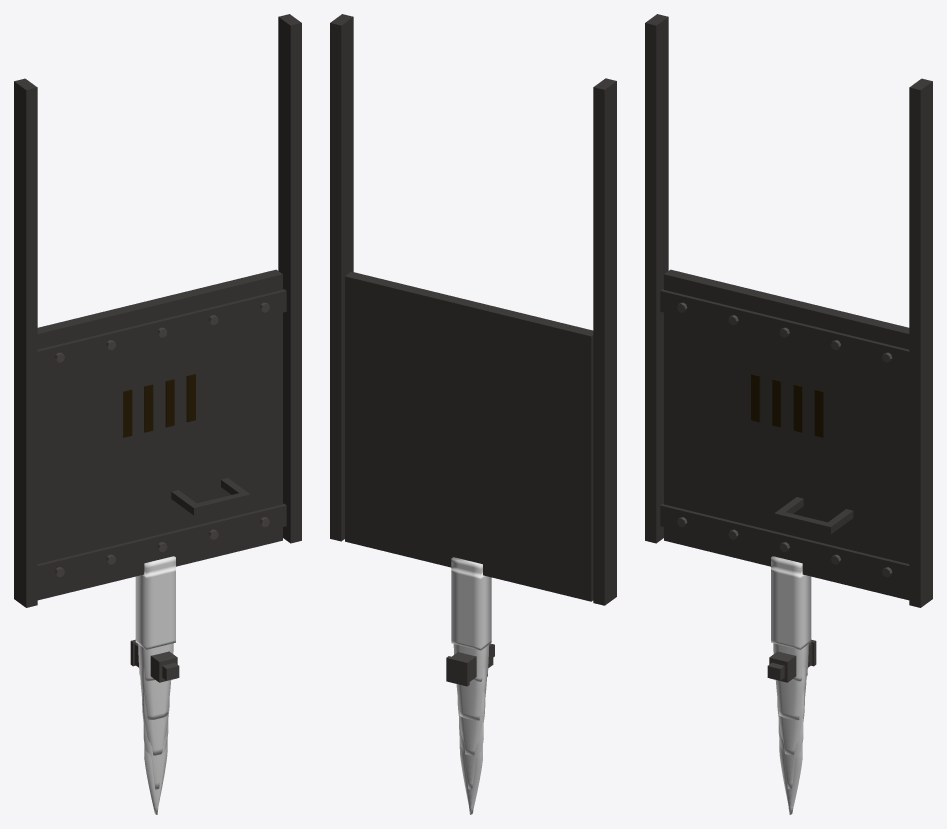
Rendered from cinematica_forja_utileria.fbx.
3 renders of one model, left to right at view 1: azimuth 30°, elevation 25°; view 2: azimuth 150°, elevation 25°; view 3: azimuth 330°, elevation 25°, orthographic.
Visible parts, largest first — view 1: Compuerta, GuiasCompuerta, Pieza_Etapa0, Pieza_Etapa2, Martillo, Pieza_Etapa3, Pieza_Etapa5, Pieza_Etapa1, Pieza_Etapa4; view 2: Compuerta, GuiasCompuerta, Pieza_Etapa0, Martillo, Pieza_Etapa2, Pieza_Etapa3, Pieza_Etapa5, Pieza_Etapa1, Pieza_Etapa4; view 3: Compuerta, GuiasCompuerta, Pieza_Etapa0, Pieza_Etapa2, Martillo, Pieza_Etapa3, Pieza_Etapa5, Pieza_Etapa1, Pieza_Etapa4.
Part boxes in pixels (x1,y1,x2,y2): Compuerta: [37, 269, 286, 600]; GuiasCompuerta: [14, 14, 301, 607]; Pieza_Etapa0: [135, 556, 175, 649]; Pieza_Etapa2: [140, 557, 171, 720]; Martillo: [130, 639, 179, 682]; Pieza_Etapa3: [142, 690, 169, 755]; Pieza_Etapa5: [144, 740, 167, 814]; Pieza_Etapa1: [138, 558, 173, 681]; Pieza_Etapa4: [143, 718, 168, 789]; Compuerta: [345, 271, 593, 601]; GuiasCompuerta: [330, 14, 616, 605]; Pieza_Etapa0: [451, 557, 491, 650]; Martillo: [446, 643, 494, 686]; Pieza_Etapa2: [456, 560, 486, 720]; Pieza_Etapa3: [457, 691, 485, 755]; Pieza_Etapa5: [459, 739, 482, 814]; Pieza_Etapa1: [453, 557, 488, 681]; Pieza_Etapa4: [459, 718, 483, 789]; Compuerta: [660, 269, 909, 600]; GuiasCompuerta: [645, 14, 932, 607]; Pieza_Etapa0: [771, 556, 811, 649]; Pieza_Etapa2: [775, 557, 806, 720]; Martillo: [767, 639, 816, 682]; Pieza_Etapa3: [777, 690, 804, 755]; Pieza_Etapa5: [779, 740, 802, 814]; Pieza_Etapa1: [773, 557, 808, 681]; Pieza_Etapa4: [778, 718, 803, 789].
Size of the model in its own units: 3.9 by 10.32 by 1.03.
